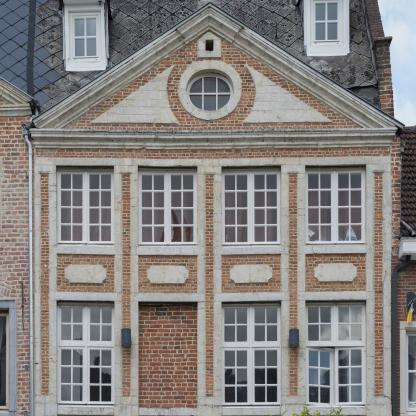Building Outline: (0, 0, 416, 415)
Cornice: (29, 0, 406, 136)
Facade: (34, 130, 400, 416)
Floor: (0, 278, 398, 416), (0, 158, 398, 278)
Floor Slab: (0, 149, 398, 158), (0, 269, 398, 278)
Roof: (0, 1, 381, 117)
Top Floor: (41, 15, 395, 149)
Window: (306, 300, 366, 405), (222, 302, 282, 407), (57, 301, 115, 406), (306, 165, 366, 245), (139, 166, 198, 247), (222, 166, 281, 247), (56, 166, 114, 246), (68, 10, 101, 60), (310, 1, 343, 46)
